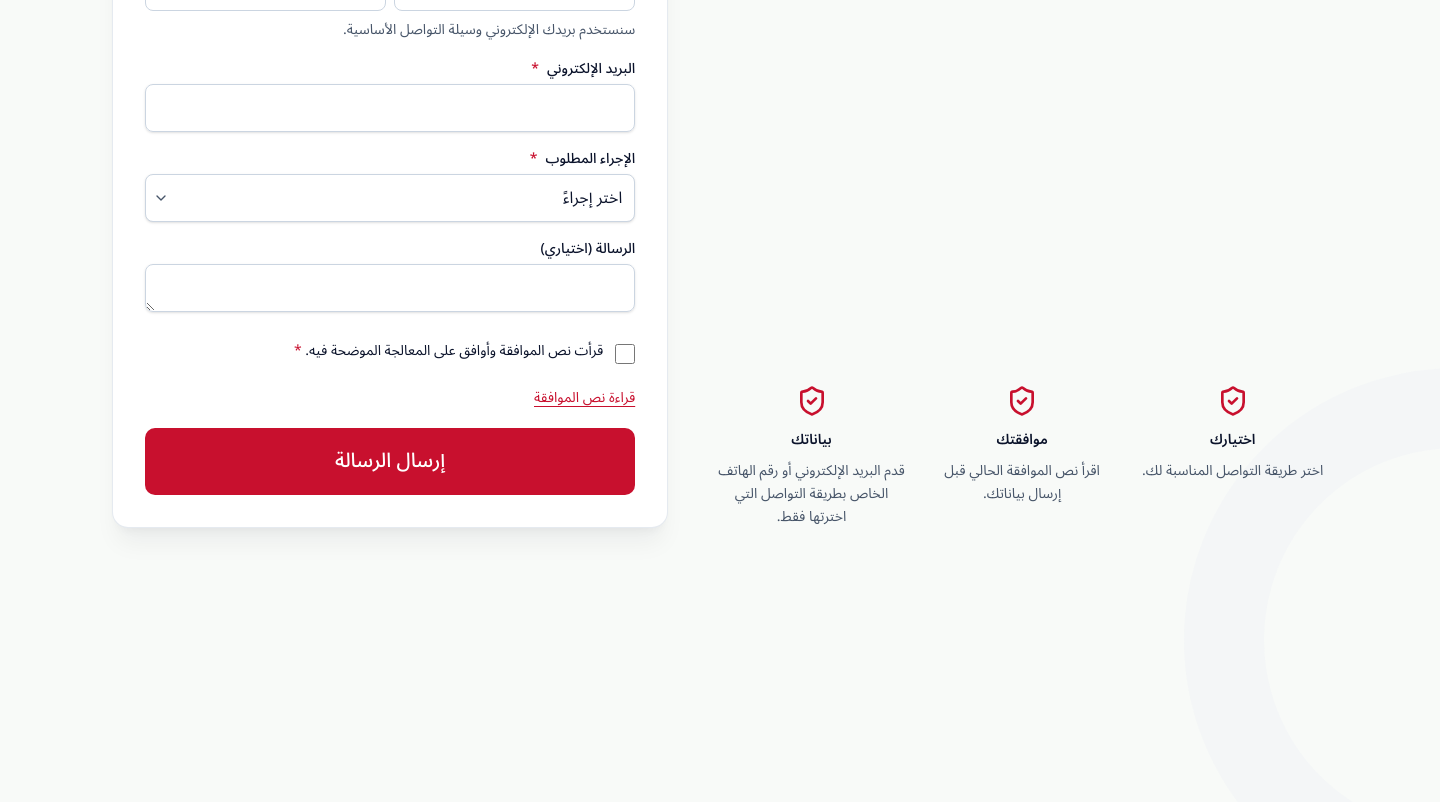
Test case: ContactSection › preserves multiline Arabic consent in the localized dialog
The image size is (1440, 802).
(page scrolled)
Click the button "قراءة نص الموافقة": (585, 398) [534,388,635,408]
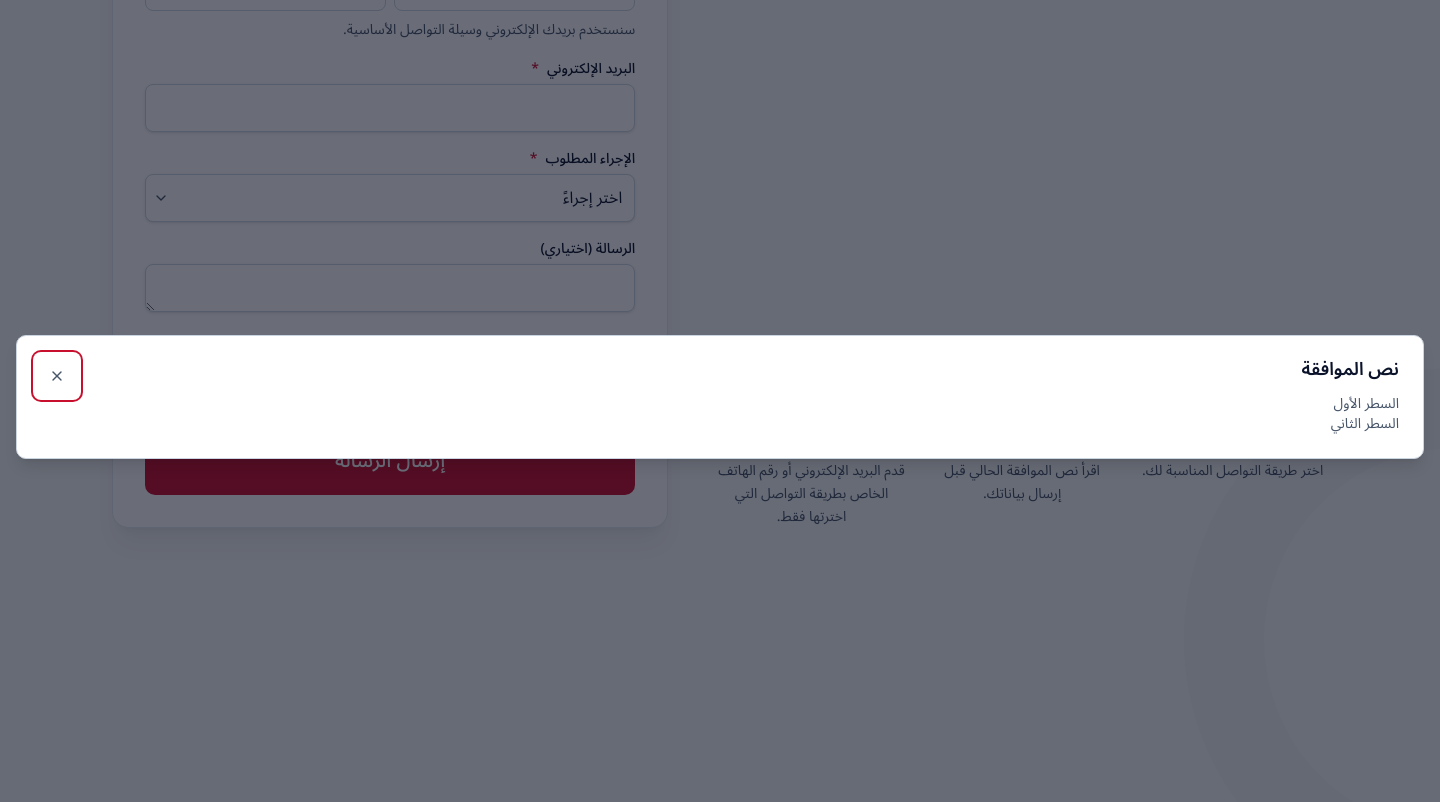
Now the dialog "نص الموافقة" shows "السطر الأول السطر الثاني", box [1331,389,1399,438]
